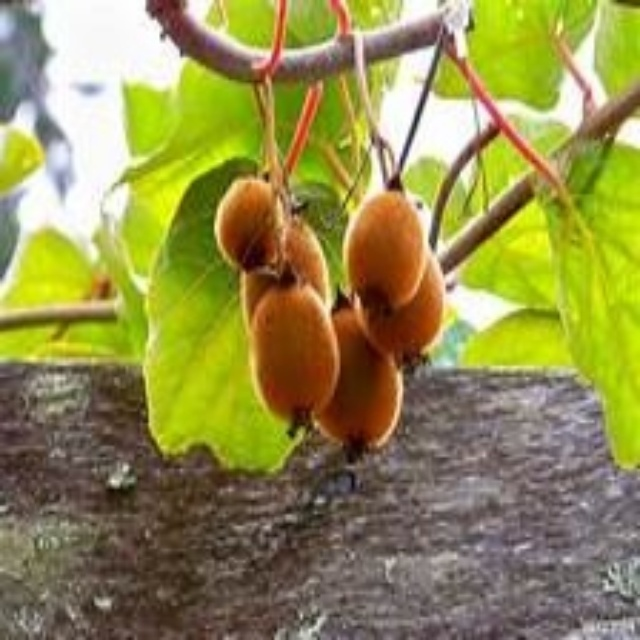kiwi: (196, 154, 325, 302), (343, 186, 448, 366), (253, 289, 341, 427), (318, 335, 396, 464)
